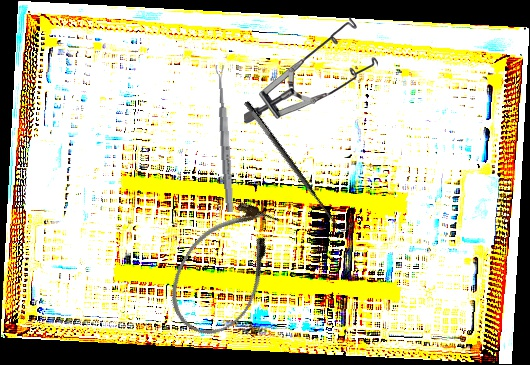Cannula: (154, 187, 296, 350)
Hook Surgical: (242, 92, 356, 240)
Speculum: (244, 16, 378, 124)
Surgical Spoon: (214, 64, 236, 213)
